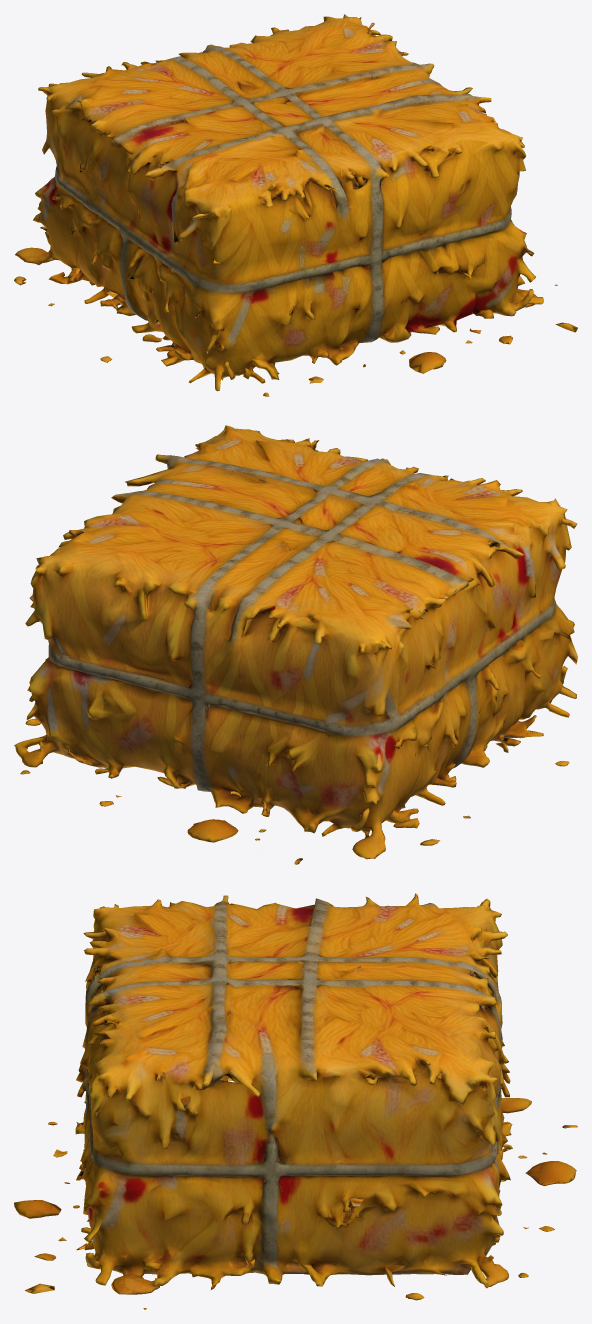
The model's file is 02Hay02.fbx.
The picture shows the model from 3 angles, top to bottom: view 1: azimuth 30°, elevation 25°; view 2: azimuth 150°, elevation 25°; view 3: azimuth 270°, elevation 25°; orthographic projection. The views are drawn at different scales.
Visible parts, largest first — view 1: Mesh_0; view 2: Mesh_0; view 3: Mesh_0.
Boxes of the visible parts, x1=… form: Mesh_0: x1=14, y1=14, x2=577, y2=396; Mesh_0: x1=14, y1=425, x2=577, y2=864; Mesh_0: x1=14, y1=893, x2=577, y2=1309.
Bounding box in the file's own units: 184 × 83.11 × 187.
Materials: 1 (1 with a texture image).
